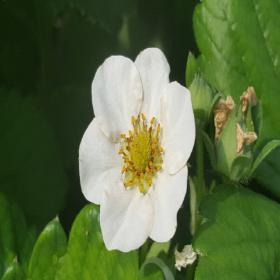Blossom Blight: (114, 112, 165, 195)
